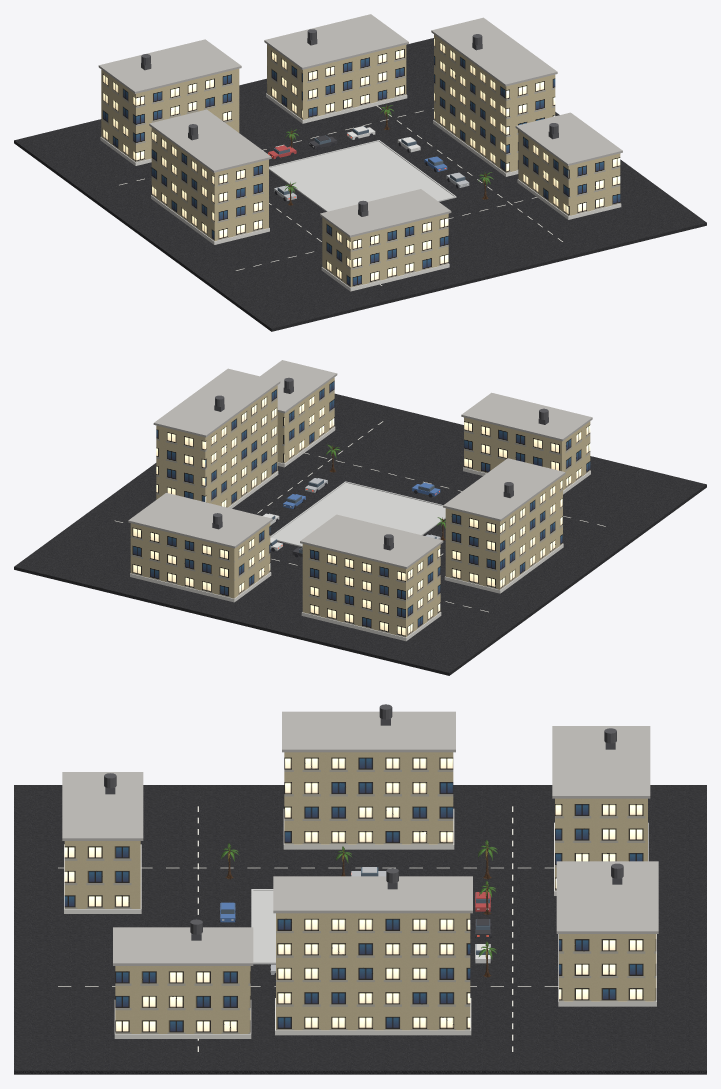
The model's file is club-surroundings.glb.
3 renders of one model, top to bottom at view 1: azimuth 30°, elevation 25°; view 2: azimuth 150°, elevation 25°; view 3: azimuth 270°, elevation 25°, orthographic. The views are drawn at different scales.
Visible parts, largest first — view 1: Asphalt, FacadeLit, Roof, Kerb, Trim, ChairMetal; view 2: Asphalt, FacadeLit, Roof, Kerb, Trim, ChairMetal; view 3: Asphalt, FacadeLit, Roof, Trim, Kerb, ChairMetal, RoadLine.
Part boxes in pixels (x1,y1,x2,y2): Asphalt: (14, 38, 706, 331); FacadeLit: (101, 34, 620, 287); Roof: (98, 14, 622, 237); Kerb: (269, 140, 456, 211); Trim: (100, 93, 621, 291); ChairMetal: (141, 29, 558, 216); Asphalt: (14, 393, 706, 675); FacadeLit: (130, 377, 590, 637); Roof: (128, 360, 592, 568); Kerb: (270, 481, 445, 547); Trim: (130, 427, 590, 641); ChairMetal: (212, 377, 548, 550); Asphalt: (14, 785, 706, 1074); FacadeLit: (64, 752, 656, 1033); Roof: (62, 711, 658, 965); Trim: (64, 808, 656, 1038); Kerb: (251, 889, 275, 964); ChairMetal: (104, 704, 623, 940); RoadLine: (58, 806, 558, 1051).
Size of the model in its own units: 80 by 19.02 by 82.
17 materials, 2 textured.
